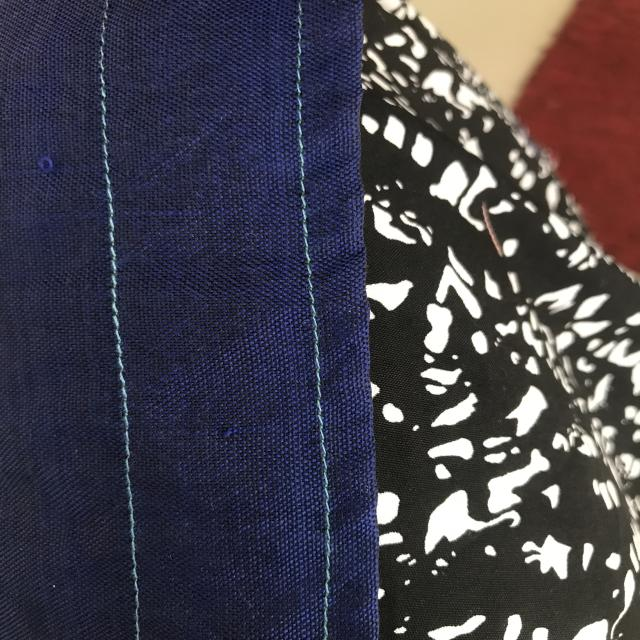good: (96, 258, 152, 622), (282, 18, 324, 297), (303, 321, 333, 582), (90, 21, 126, 235)
